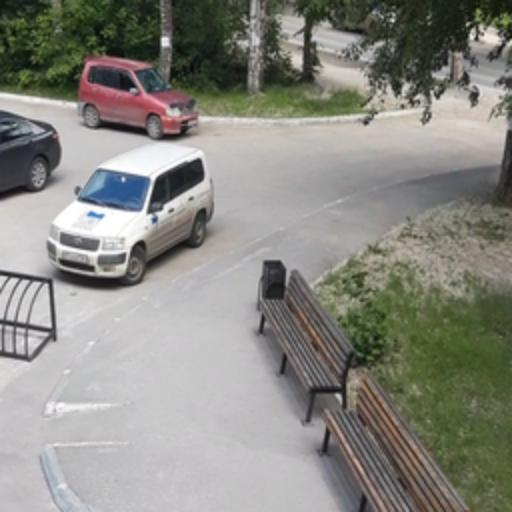car: (42, 136, 214, 286), (72, 52, 200, 142), (0, 104, 60, 200)
